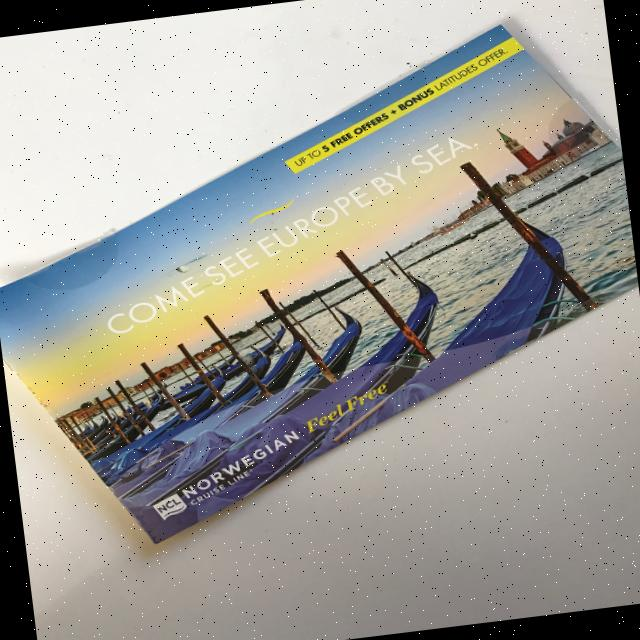paper: (0, 6, 640, 565)
